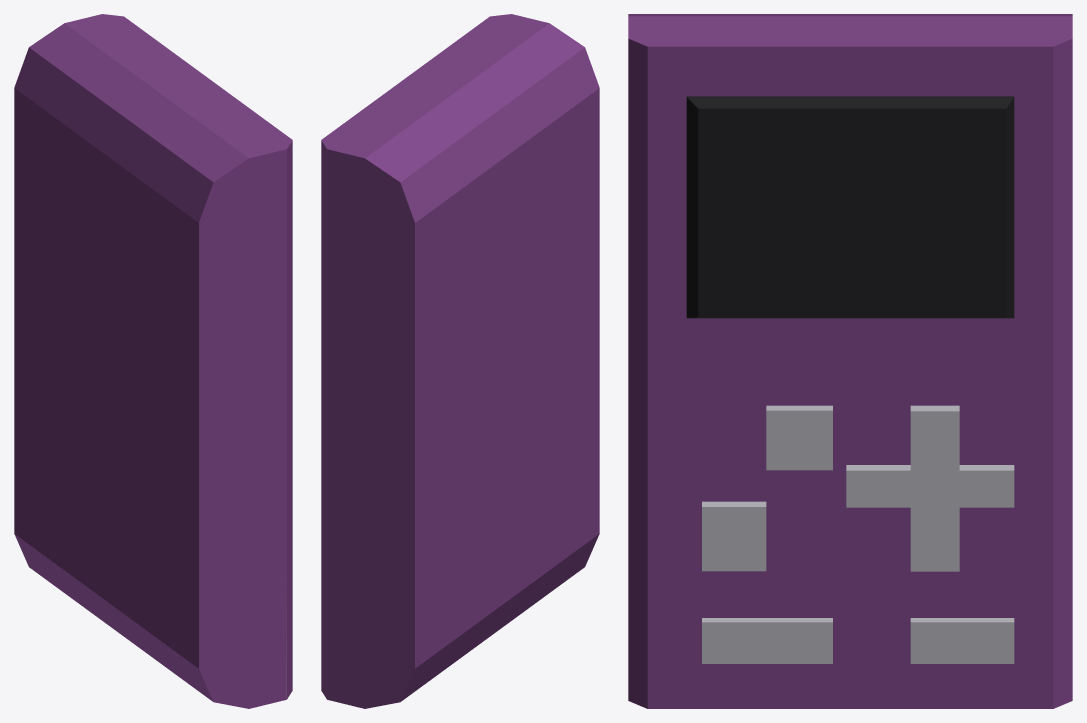
File: toy_gamekid.fbx
3 renders of one model, left to right at view 1: azimuth 30°, elevation 25°; view 2: azimuth 150°, elevation 25°; view 3: azimuth 270°, elevation 25°, orthographic. The views are drawn at different scales.
Parts seen in each view (by area): view 1: toy_gamekid; view 2: toy_gamekid; view 3: toy_gamekid.
Part boxes in pixels (x1=…): toy_gamekid: x1=14, y1=14, x2=292, y2=708; toy_gamekid: x1=321, y1=14, x2=599, y2=708; toy_gamekid: x1=628, y1=14, x2=1072, y2=708.
Size of the model in its own units: 89.02 by 420 by 255.
Materials: 1 (1 with a texture image).
